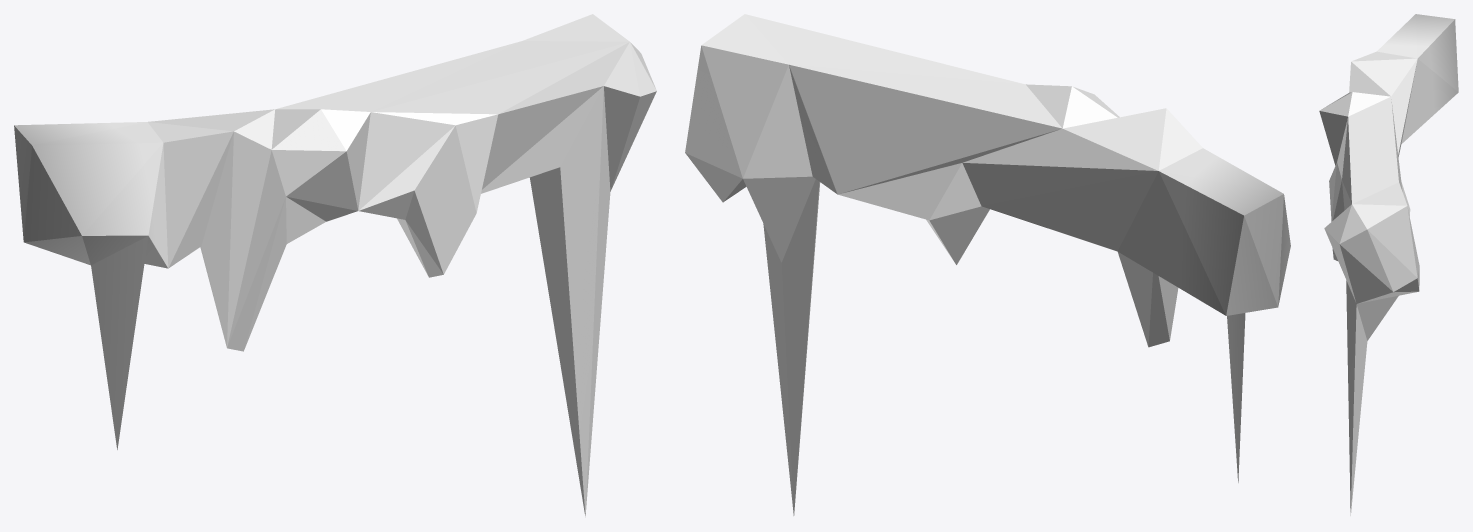
File: Plant04.fbx
3 renders of one model, left to right at view 1: azimuth 30°, elevation 25°; view 2: azimuth 150°, elevation 25°; view 3: azimuth 270°, elevation 25°, orthographic. The views are drawn at different scales.
Visible parts, largest first — view 1: Plant04; view 2: Plant04; view 3: Plant04.
Boxes of the visible parts, x1,y1,x2,y2 form: Plant04: [14, 14, 656, 517]; Plant04: [685, 14, 1290, 515]; Plant04: [1319, 14, 1458, 515].
Bounding box in the file's own units: 42.83 × 33.51 × 12.65.
